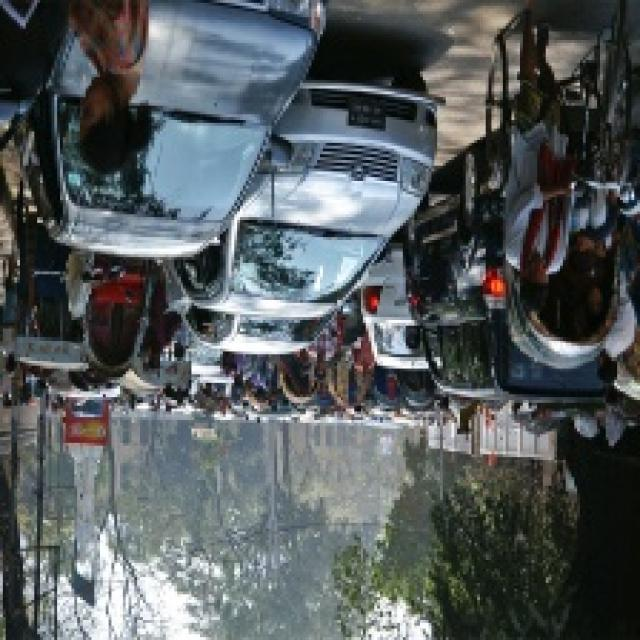car: (46, 14, 327, 257), (171, 78, 449, 301)
rickshaw: (502, 40, 635, 371), (74, 248, 161, 372)
